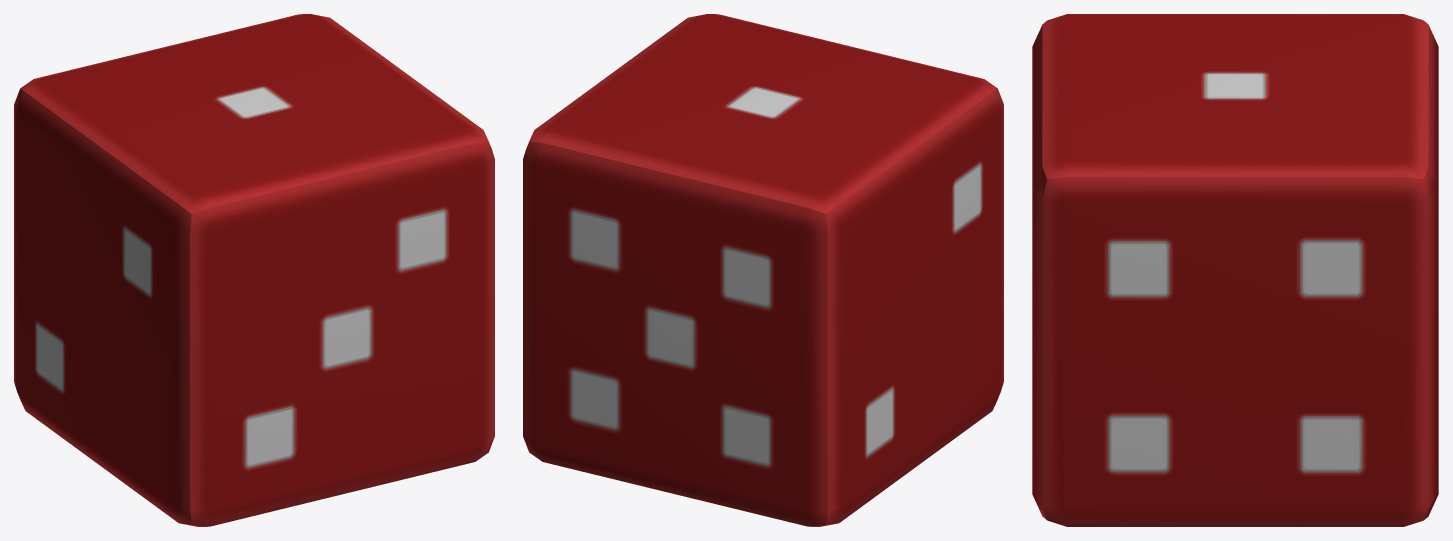
Rendered from dice.glb.
3 views of the same model, side by side, from view 1: azimuth 30°, elevation 25°; view 2: azimuth 150°, elevation 25°; view 3: azimuth 270°, elevation 25° (orthographic). The views are drawn at different scales.
Visible parts, largest first — view 1: EventRoom_Die; view 2: EventRoom_Die; view 3: EventRoom_Die.
Part boxes in pixels (left/top/right/bottom): EventRoom_Die: left=14, top=14, right=494, bottom=526; EventRoom_Die: left=523, top=14, right=1003, bottom=526; EventRoom_Die: left=1032, top=14, right=1438, bottom=526.
Size of the model in its own units: 0.0434 by 0.0434 by 0.0434.
1 material, 1 textured.
